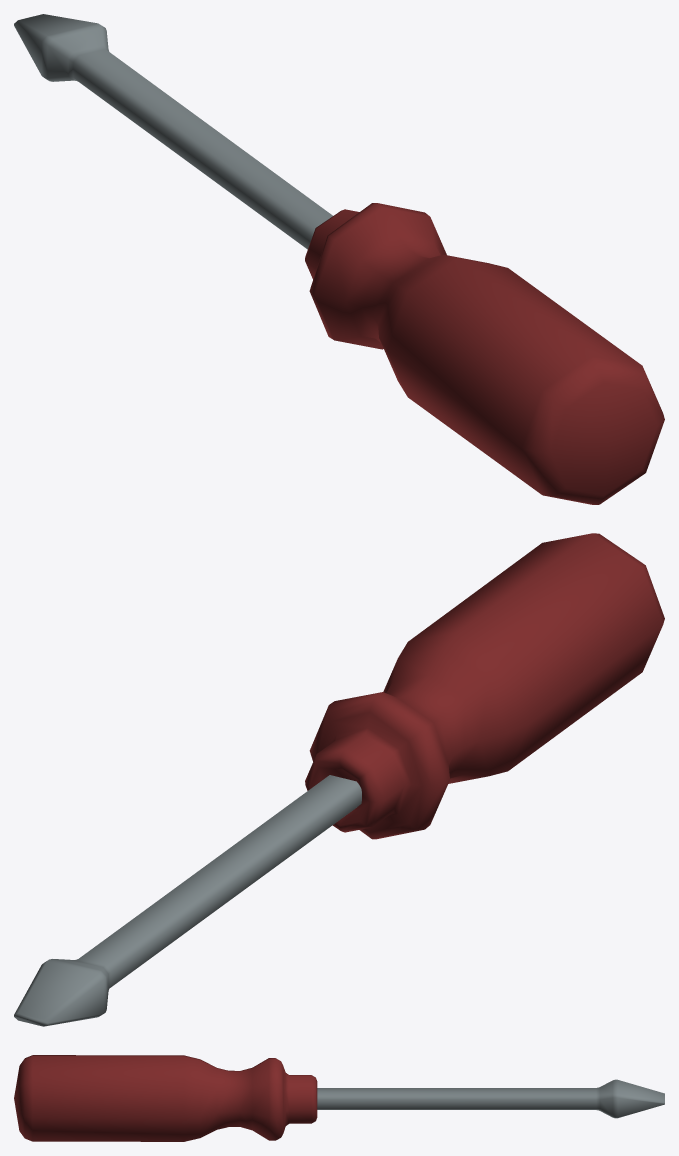
Rendered from Screwdriver.fbx.
The picture shows the model from 3 angles, top to bottom: view 1: azimuth 30°, elevation 25°; view 2: azimuth 150°, elevation 25°; view 3: azimuth 270°, elevation 25°; orthographic projection. The views are drawn at different scales.
Parts seen in each view (by area): view 1: Screwdriver_Handle, Screwdriver_Tip; view 2: Screwdriver_Handle, Screwdriver_Tip; view 3: Screwdriver_Handle, Screwdriver_Tip.
Part boxes in pixels (left/top/right/bottom): Screwdriver_Handle: left=305, top=203, right=664, bottom=504; Screwdriver_Tip: left=14, top=14, right=332, bottom=249; Screwdriver_Handle: left=305, top=533, right=664, bottom=839; Screwdriver_Tip: left=14, top=775, right=361, bottom=1026; Screwdriver_Handle: left=14, top=1055, right=317, bottom=1141; Screwdriver_Tip: left=317, top=1079, right=664, bottom=1118.
Bounding box in the file's own units: 131 × 133 × 931.
